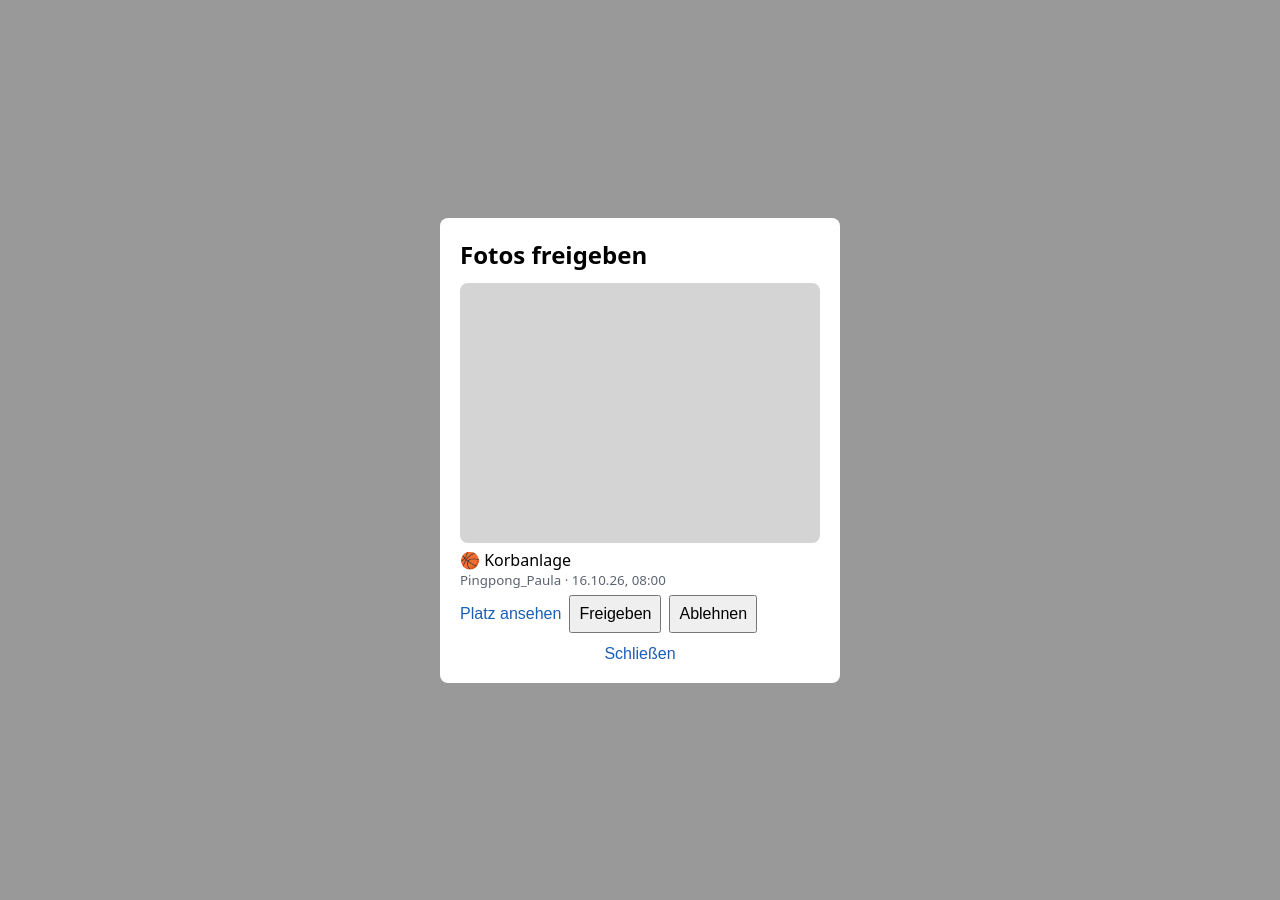
Scenario: PhotoApprovalDialog › rejects only after the second step
Click the button "Ablehnen": (713, 614) [670, 594, 757, 632]
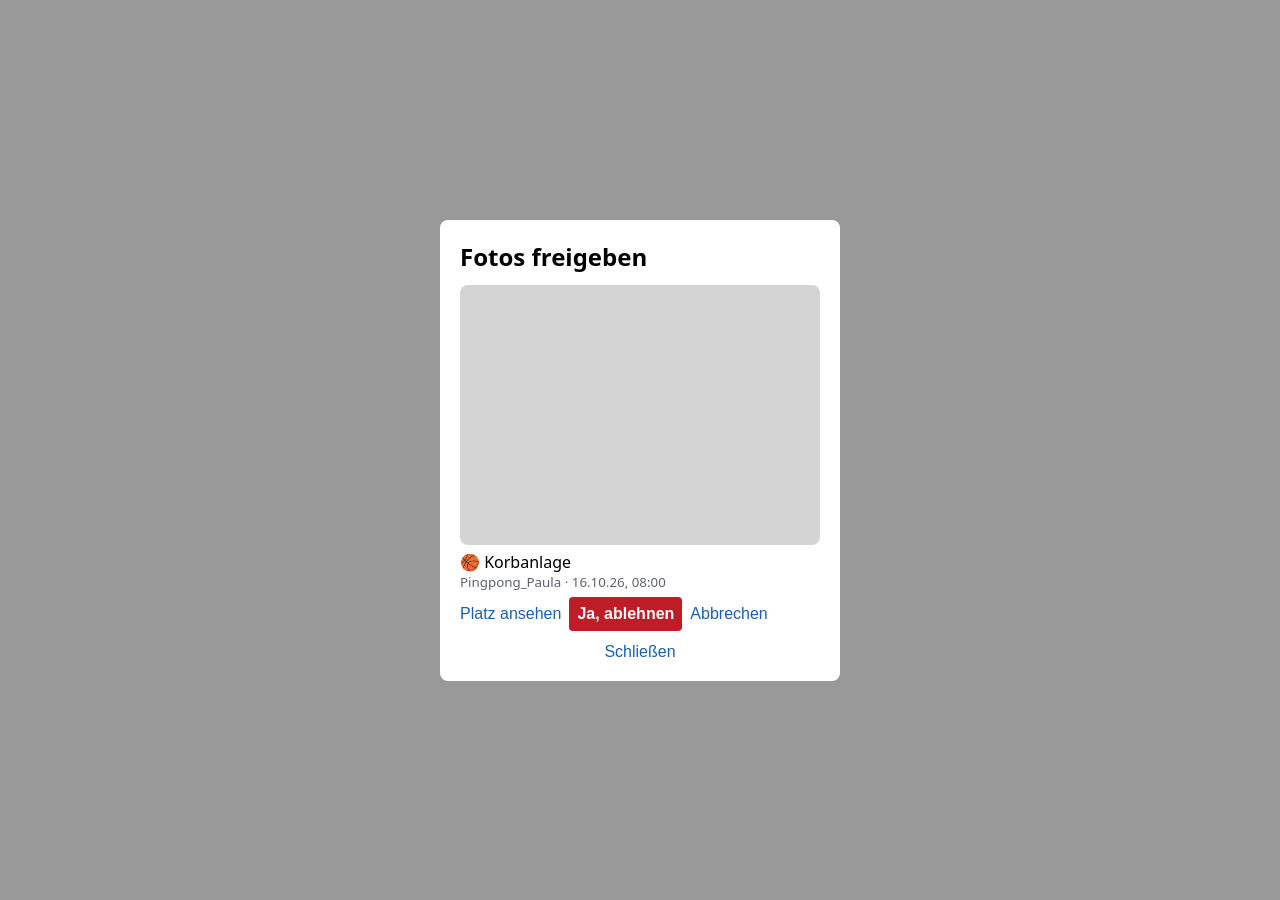
Click the button "Ja, ablehnen": (626, 614) [569, 596, 682, 630]
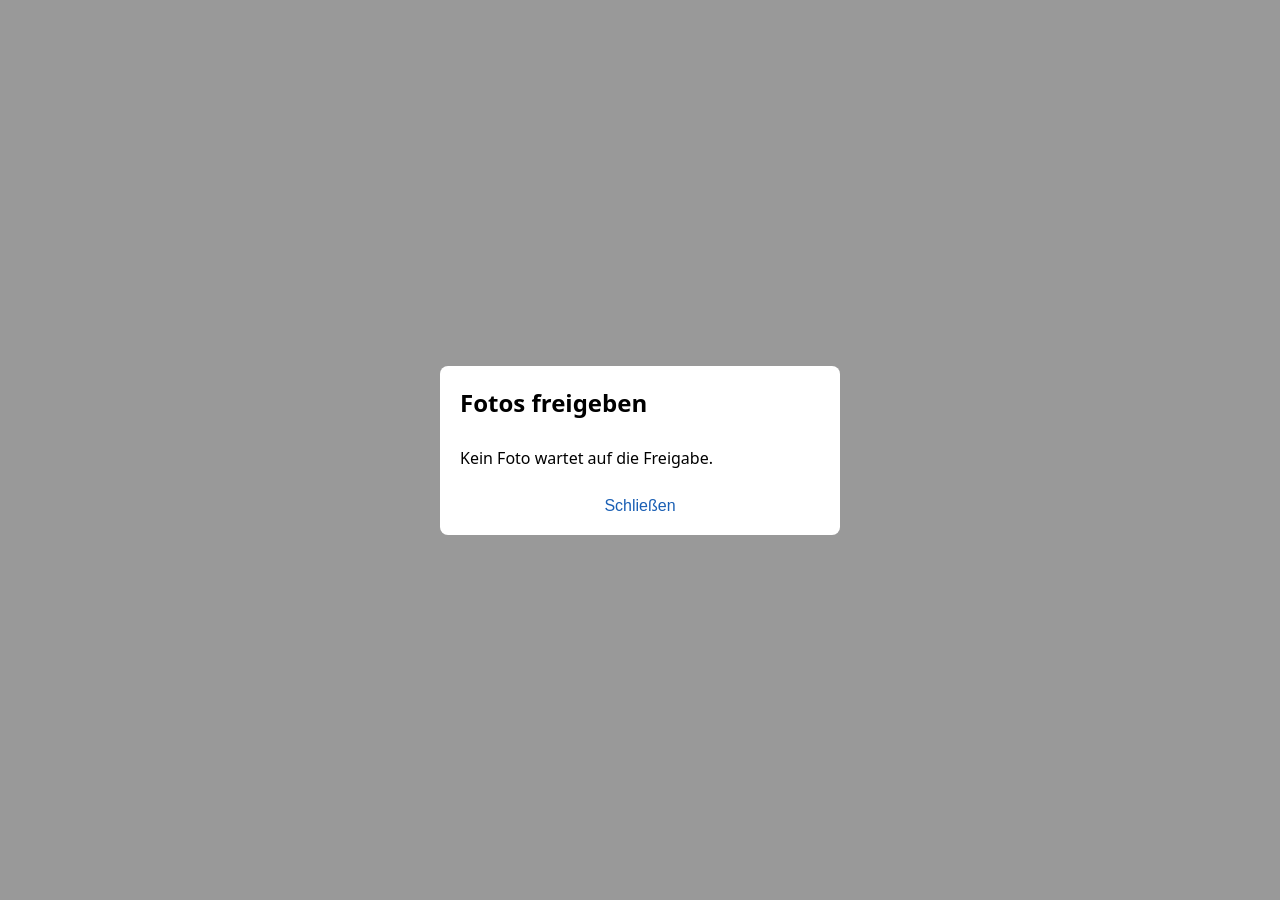
Expected: the picture is gone
